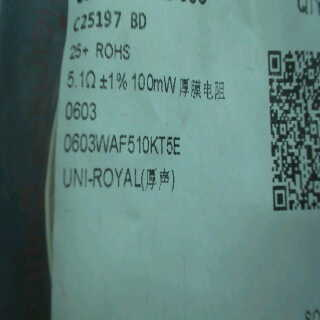5.1R: (63, 66, 102, 95)
